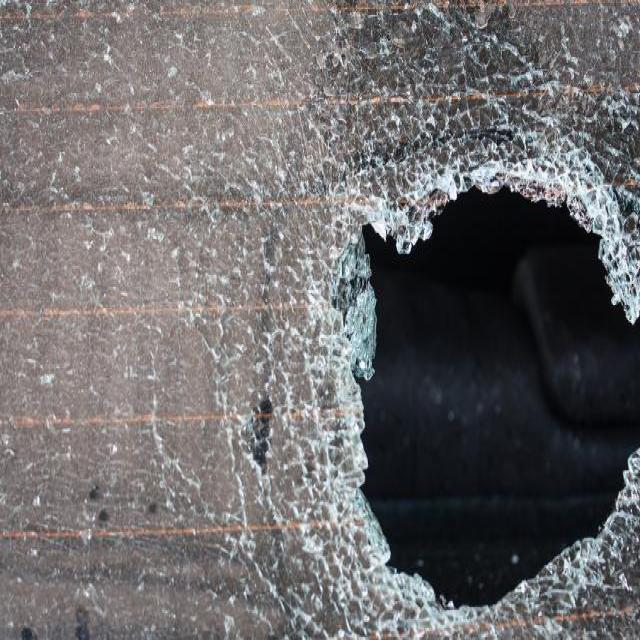Dent: (142, 365, 201, 524), (468, 152, 589, 207), (14, 518, 99, 546), (504, 66, 550, 90), (261, 230, 276, 267), (440, 173, 457, 198), (2, 66, 23, 86), (471, 5, 490, 27), (500, 39, 522, 57), (120, 0, 136, 15), (102, 45, 114, 63), (88, 484, 101, 499), (250, 3, 266, 15), (618, 571, 628, 586), (146, 499, 157, 512)
